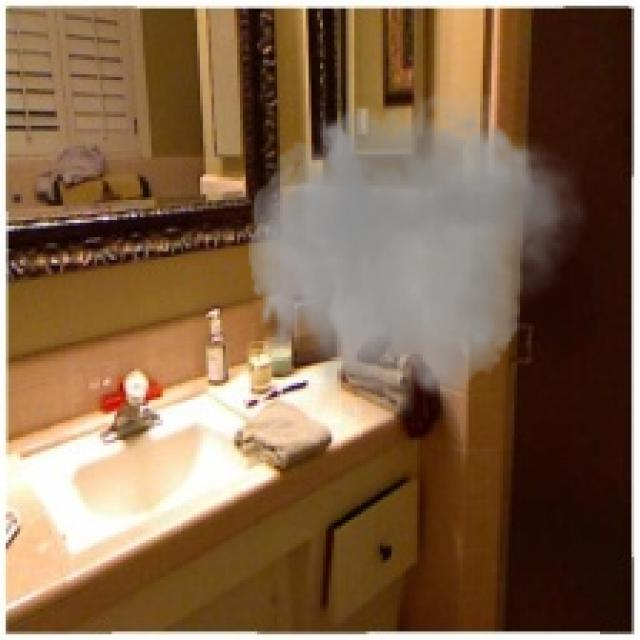smoke: (240, 77, 589, 440)
